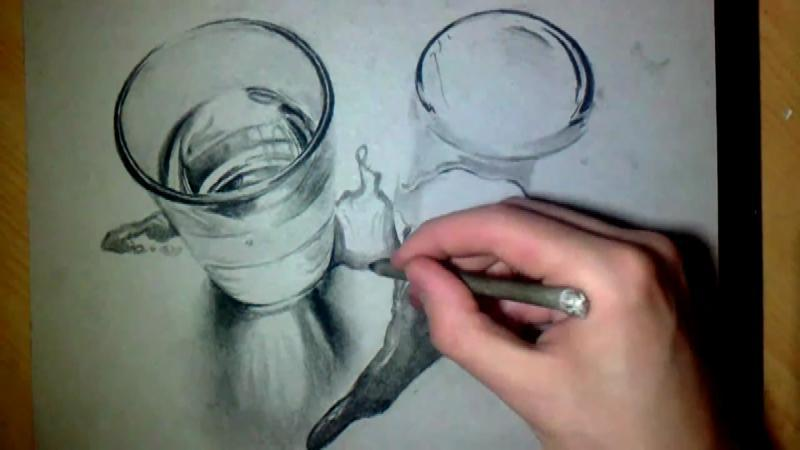glass of water: (109, 37, 348, 306)
